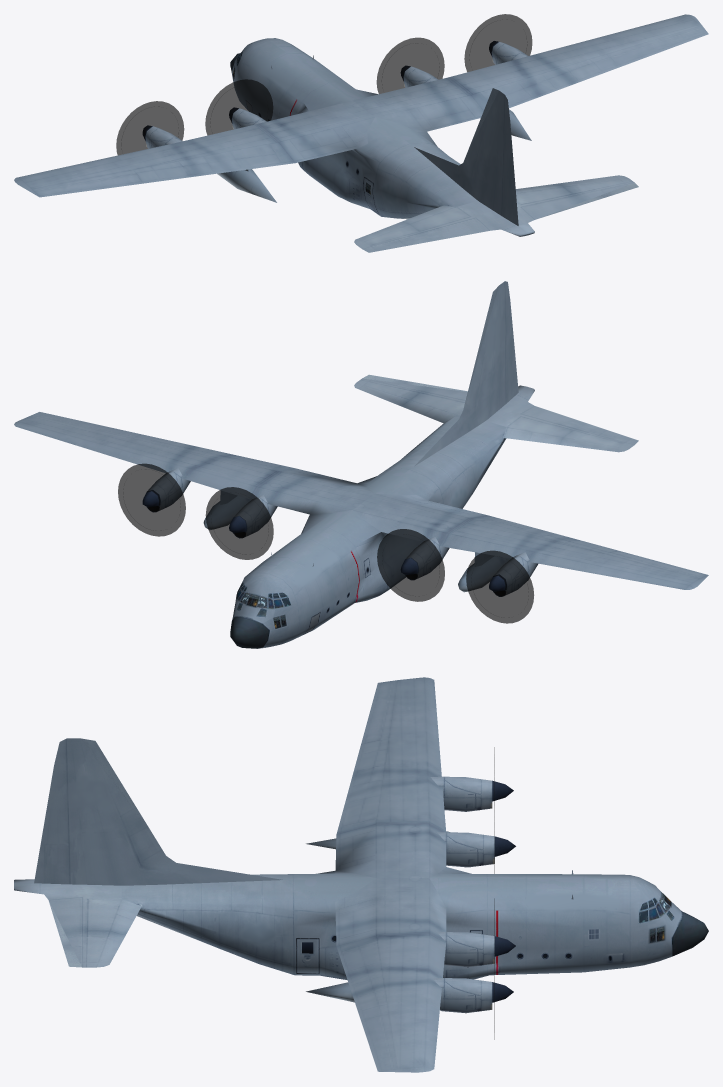
3 renders of one model, top to bottom at view 1: azimuth 30°, elevation 25°; view 2: azimuth 150°, elevation 25°; view 3: azimuth 270°, elevation 25°, orthographic. The views are drawn at different scales.
Visible parts, largest first — view 1: body, o2850_2, Cylinder.002, Cylinder.003, Cylinder, o2942_6, Cylinder.001; view 2: body, o2942_6, o2850_2, Cylinder.001, Cylinder.003, Cylinder.002, Cylinder; view 3: body, o2850_2, o2942_6.
Boxes of the visible parts, box(x1,y1,x2,y2) form: body: box(14, 14, 707, 252); o2850_2: box(31, 26, 708, 197); Cylinder.002: box(376, 37, 444, 93); Cylinder.003: box(464, 14, 532, 71); Cylinder: box(205, 79, 273, 135); o2942_6: box(143, 41, 527, 148); Cylinder.001: box(116, 101, 184, 155); body: box(14, 281, 708, 648); o2942_6: box(142, 468, 538, 596); o2850_2: box(31, 412, 708, 578); Cylinder.001: box(466, 550, 533, 623); Cylinder.003: box(118, 463, 185, 536); Cylinder.002: box(205, 487, 273, 559); Cylinder: box(377, 529, 444, 601); body: box(14, 677, 708, 1072); o2850_2: box(335, 680, 397, 1071); o2942_6: box(430, 776, 515, 1013).
Size of the model in its own units: 4003 by 1077 by 2979.
Materials: 3 (1 with a texture image).
